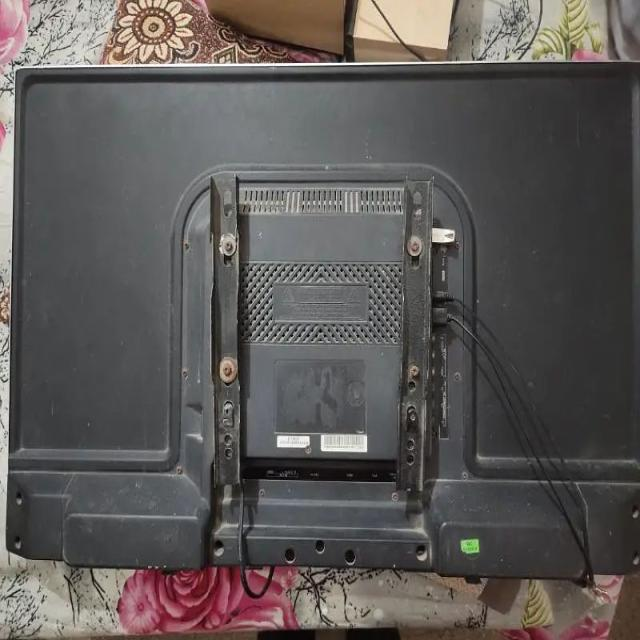electronic: (6, 60, 638, 579)
